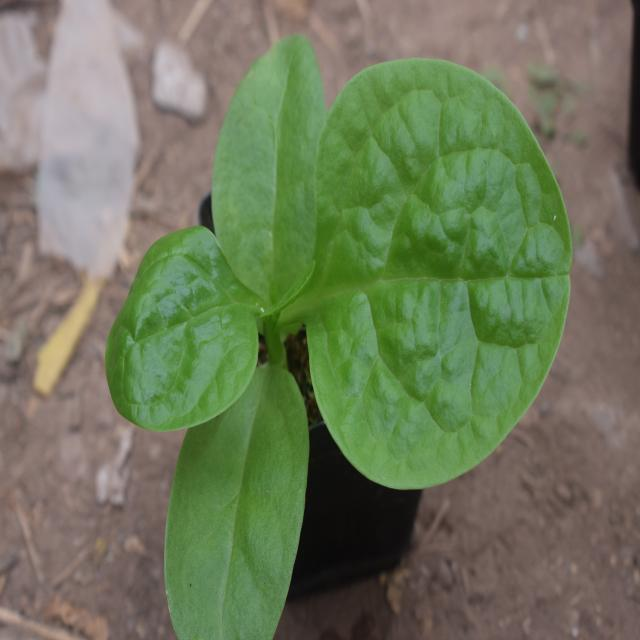Ceylon spinach: (132, 26, 568, 583)
